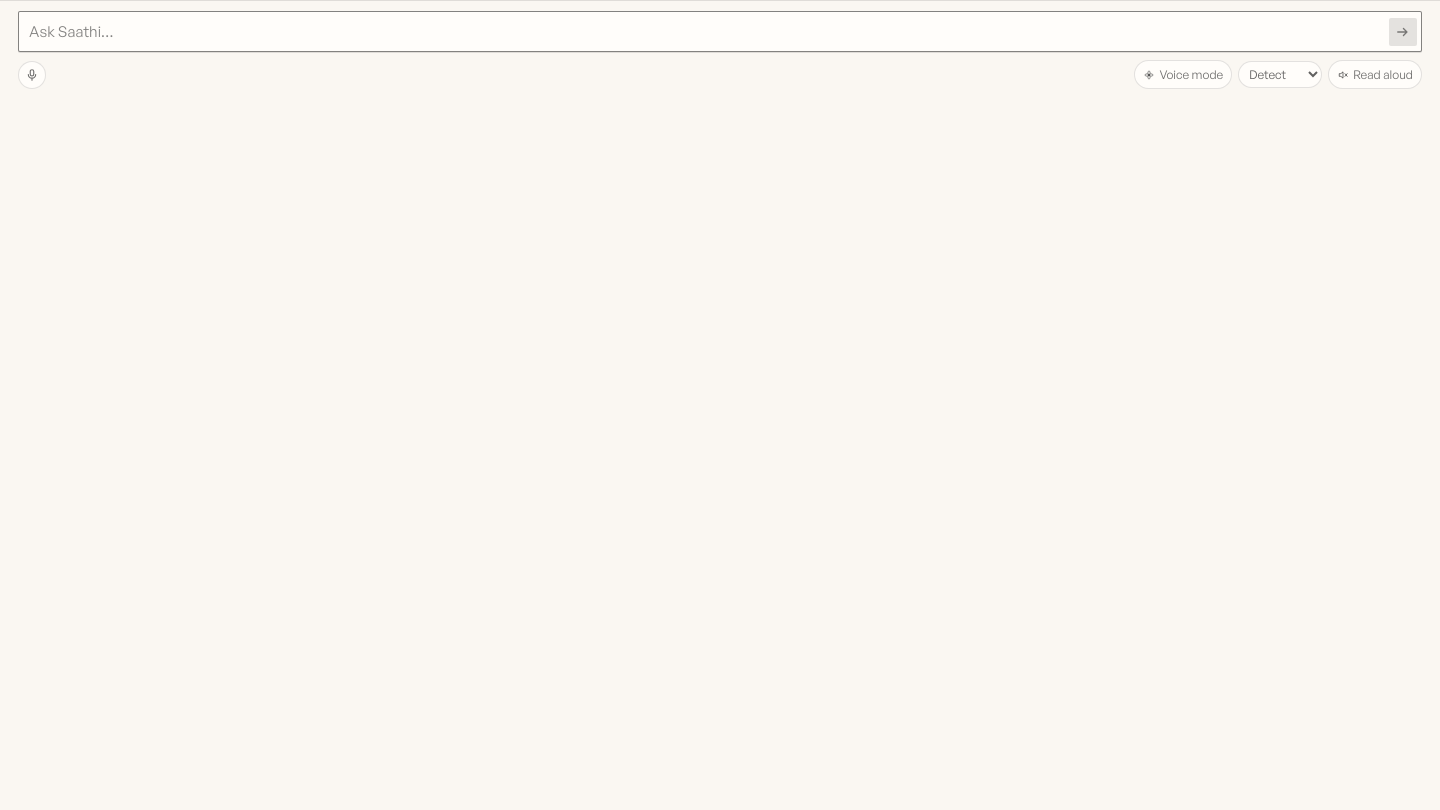
Scenario: what voice mode has on the table › renders what the conversation put there
Click the button with aria-label "Open voice mode".
click(1183, 74)  # box x1=1134 y1=60 x2=1232 y2=89
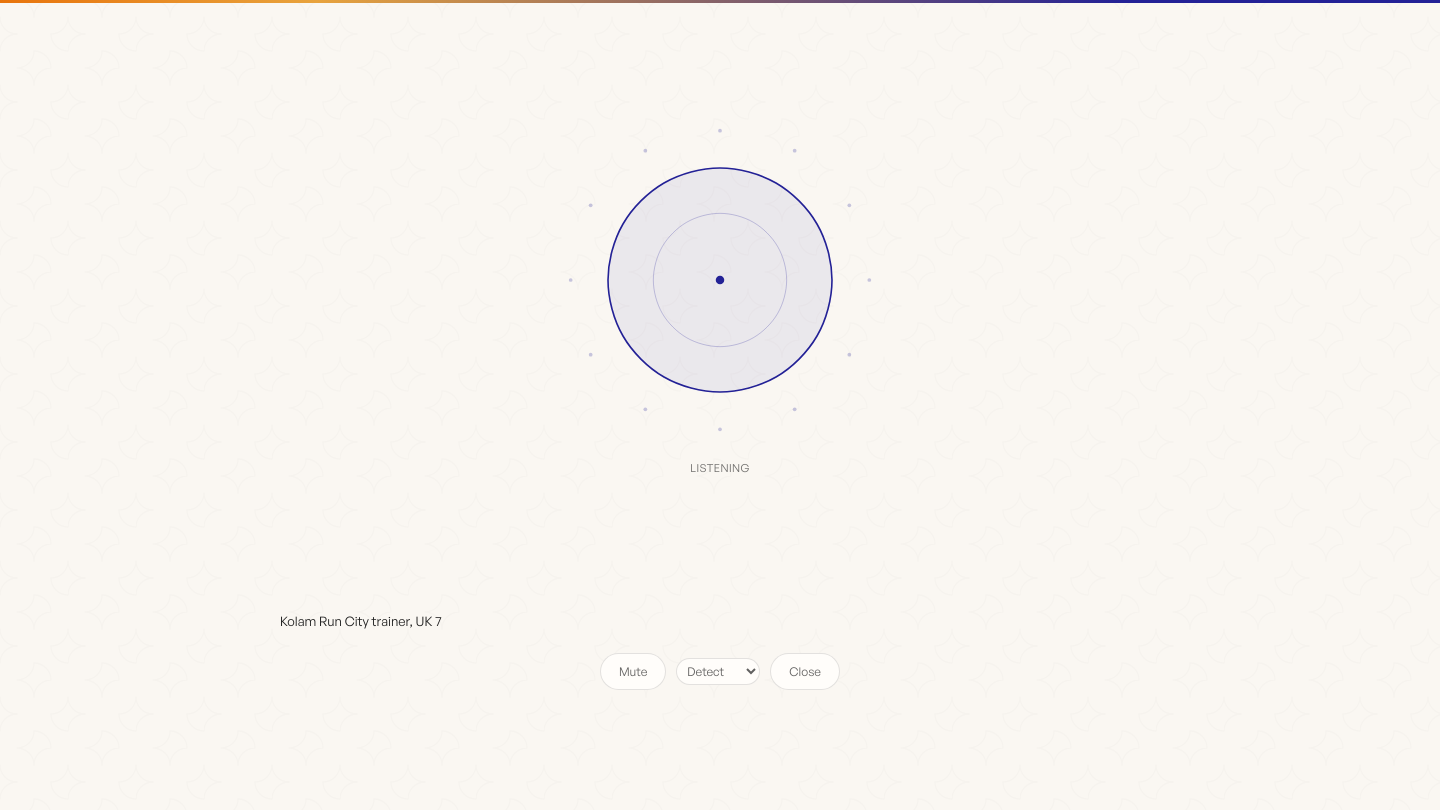
Result: the text "Kolam Run City trainer, UK 7" is shown at x1=280 y1=613 x2=442 y2=629
